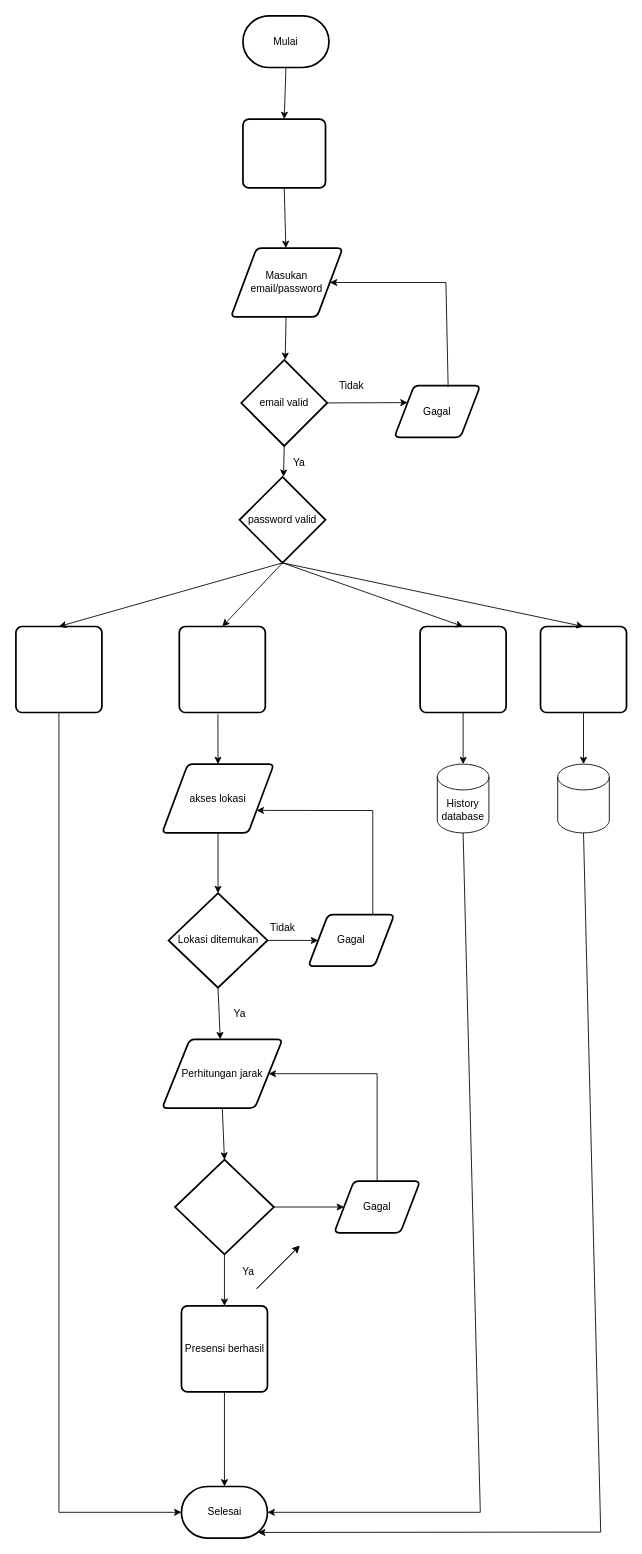
Some shapes in this 642 by 1554 pixel diagram are drawn without their labels. Here are the shapes that lost their labels. From the top down, the box of each, then its label:
(242, 118, 326, 188): Tampilan login/signup
(15, 625, 102, 713): Halaman Beranda
(178, 625, 266, 713): Halaman Presensi
(419, 625, 507, 713): Halaman Histori
(539, 625, 627, 713): Halaman Profil
(557, 763, 609, 833): Profile database
(174, 1158, 274, 1255): Jarak < 10 Meter
